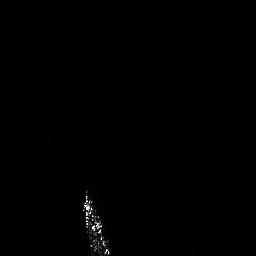ship: (80, 187, 111, 256)
